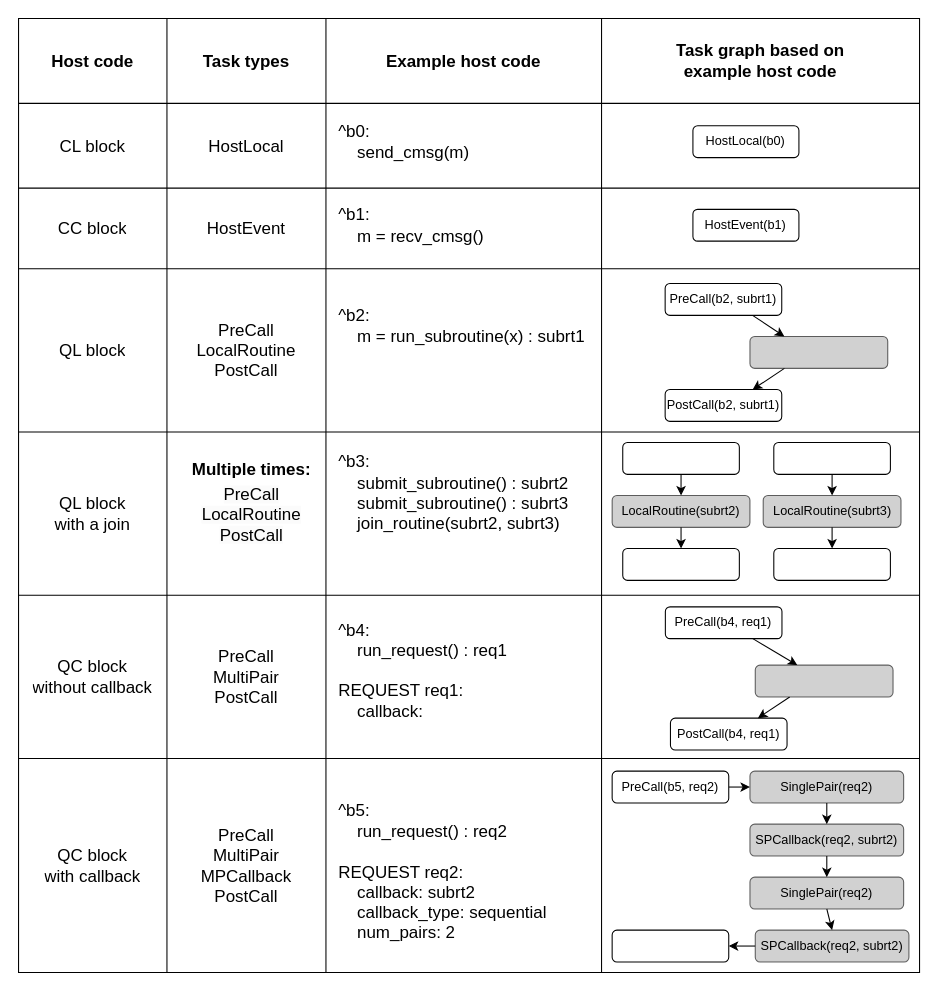
Some shapes in this 938 by 991 pixel diagram are drawn without their labels. The shapes that lost their labels are listed below. From the top down, each one's centre as x and y in pixels, then its label:
[818,351]: LocalRoutine(subrt1)
[680,457]: PreCall(b3, subrt2)
[831,457]: PreCall(b3, subrt3)
[680,563]: PostCall(b3, subrt2)
[831,563]: PostCall(b3, subrt3)
[823,680]: MultiPair(req1)
[670,945]: PostCall(b5, req2)
